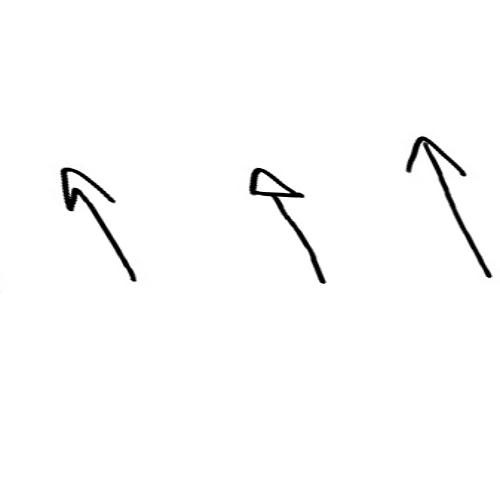arrow: (402, 131, 491, 278), (248, 164, 328, 286), (55, 167, 136, 280)
